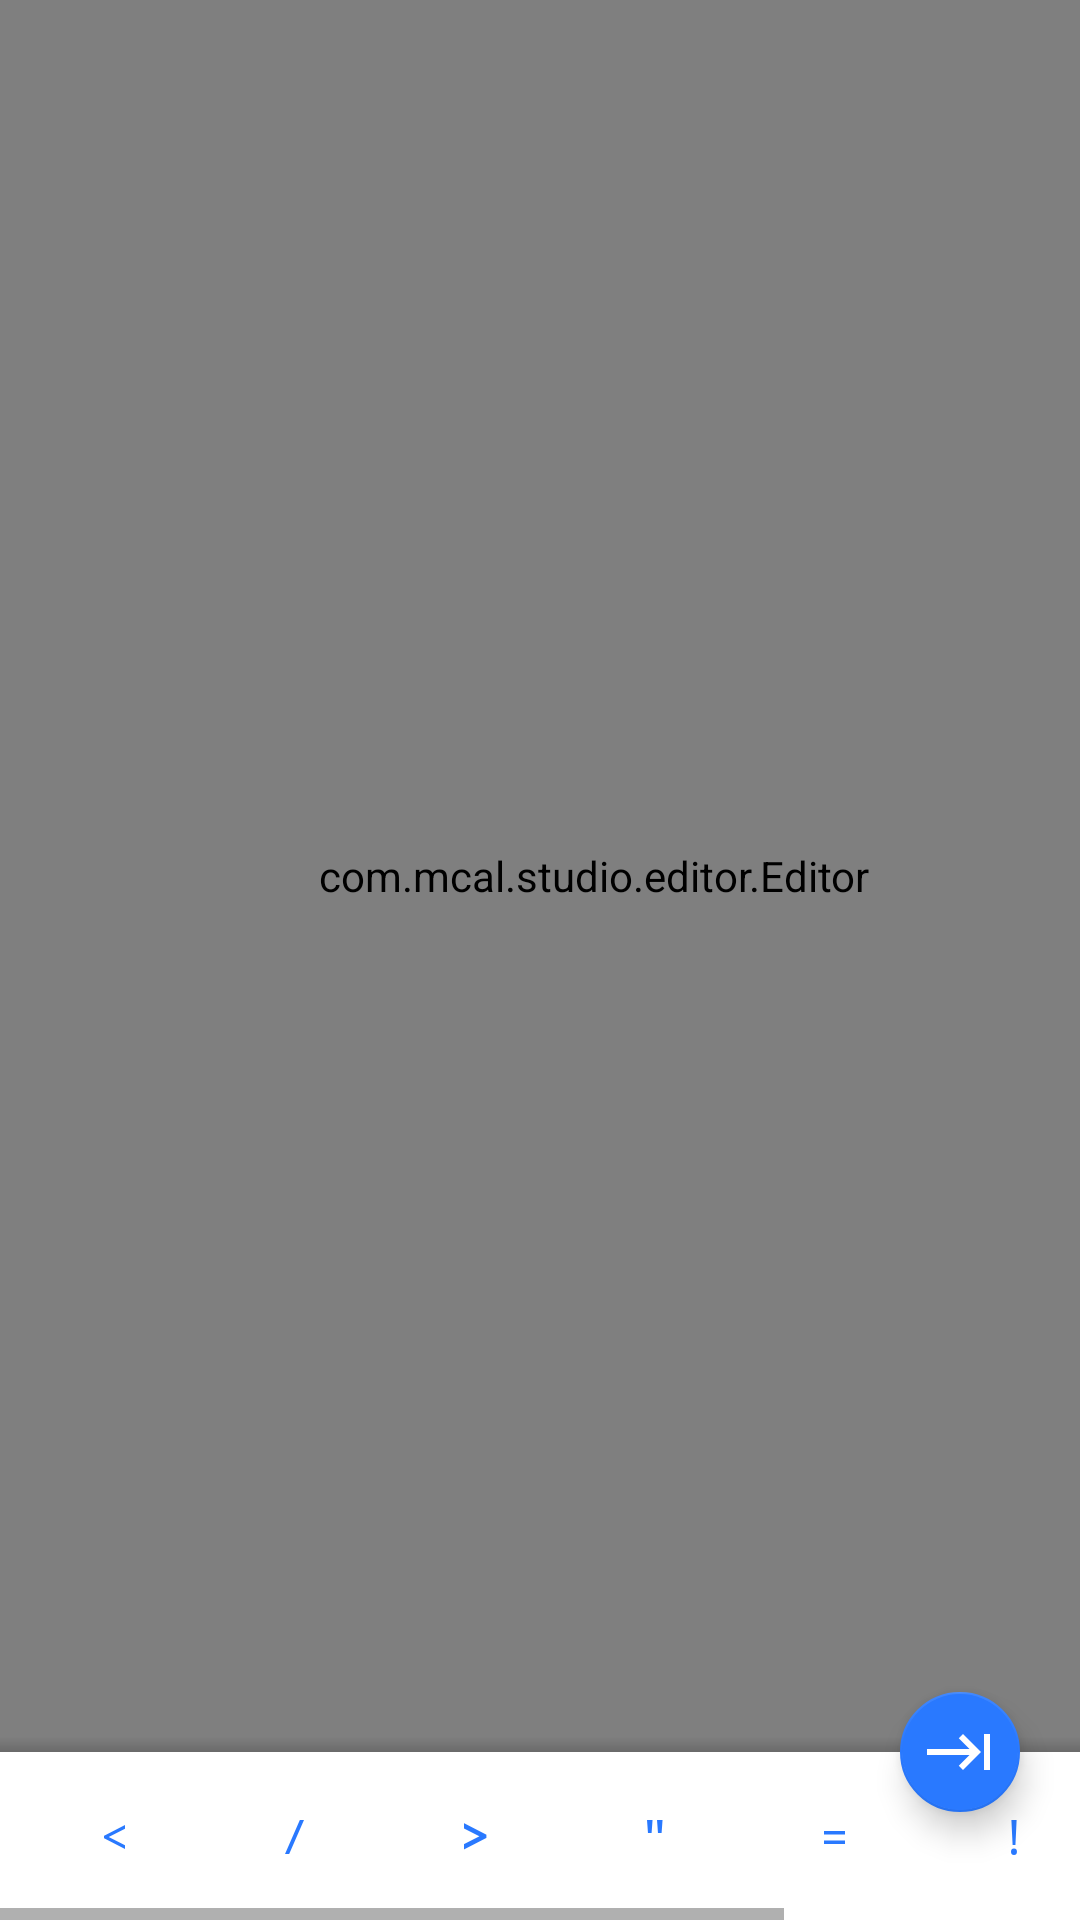

Screen size 1080×1920. Icon name, then its center in pixels as point (x, y):
tab: point (960, 1752)
